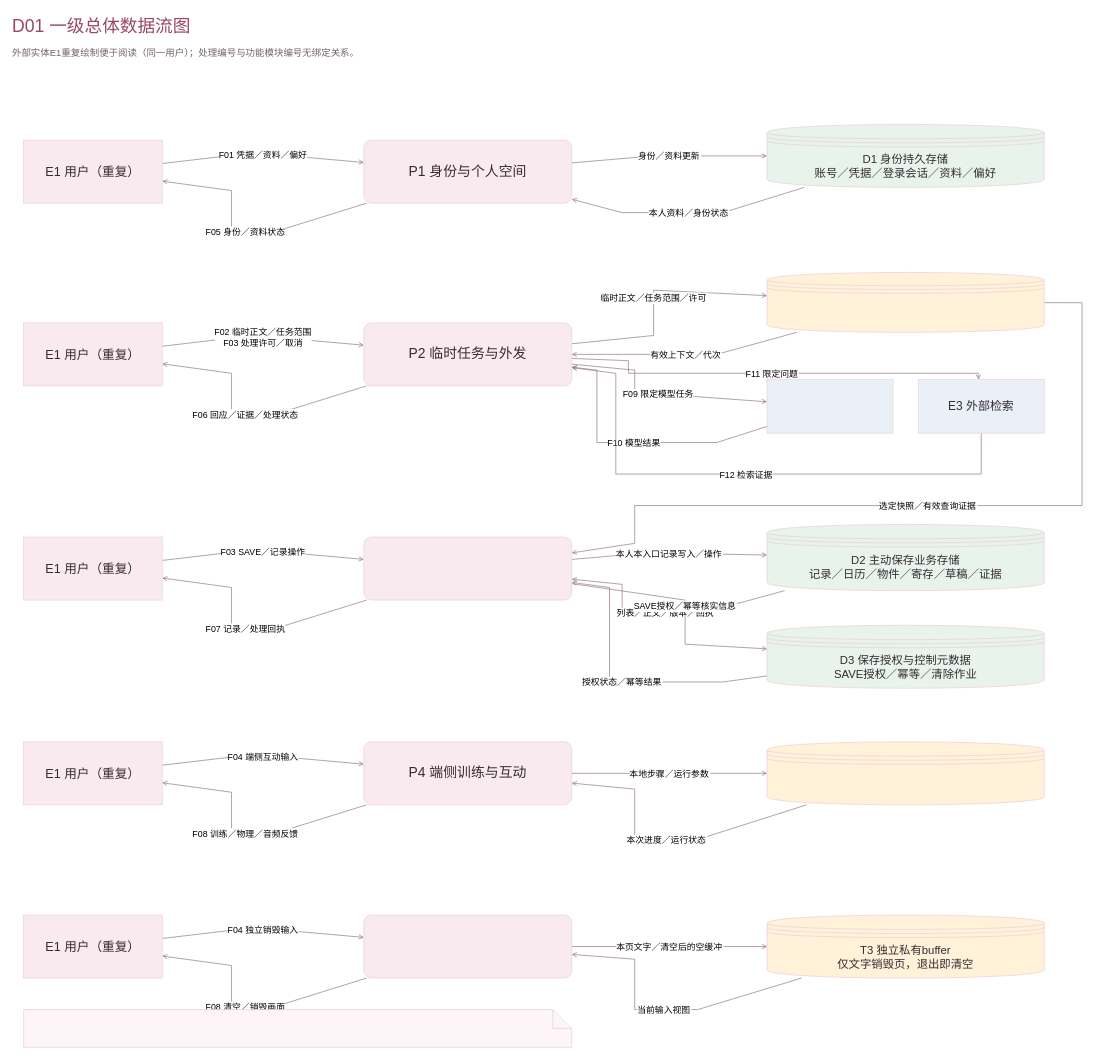
The diagram is 1105 pixels wide and 1058 high, and some of its shapes have lost their labels. The shapes that lost their labels are listed below. From the top down, each one's box as (x1, y1, x2, y2) in pixels, then its label:
(766, 272, 1044, 332): T1 临时会话／任务／处理许可 服务内存，重启失效
(766, 379, 893, 433): E2 外部模型
(363, 536, 572, 600): P3 主动保存与记录管理
(766, 741, 1044, 805): T2 端侧交互内存 timer／物理／音频状态（非正文存档）
(363, 914, 572, 978): P5 独立端侧文字销毁
(23, 1009, 572, 1047): P4／P5均无应用API、数据库、AI或检索正文通路。
